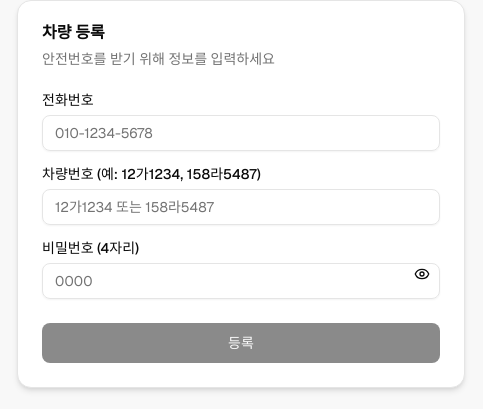
Test: RegisterForm Component - Design-TAG-006 › should show loading state during submission
Step 1. Type "01012345678" into the field labelled "전화번호" → (241, 133), box [42,115,440,151]
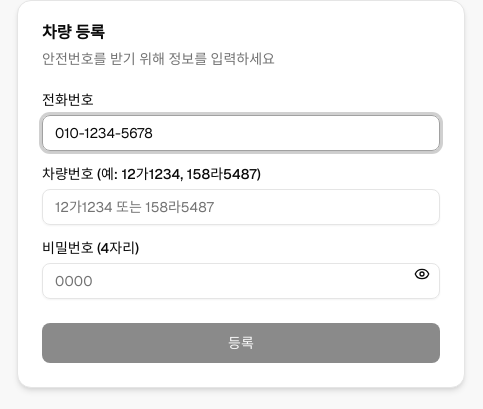
Step 2. Type "12가1234" into the field labelled "차량번호 (예: 12가1234, 158라5487)" → (241, 207), box [42,189,440,225]
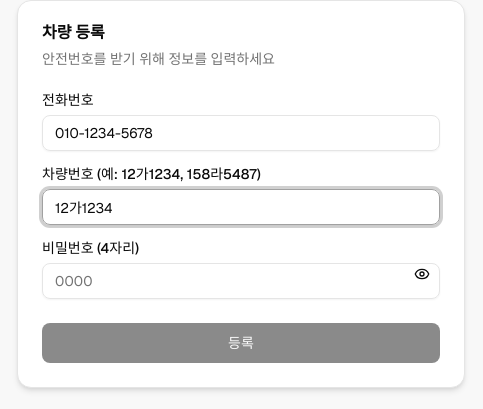
Step 3. Type "1234" into the password field labelled "비밀번호 (4자리)" → (241, 281), box [42,263,440,299]
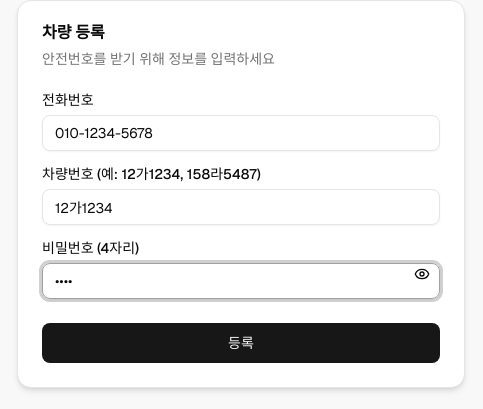
Step 4. Click the button "등록" → (241, 343), box [42,323,440,363]
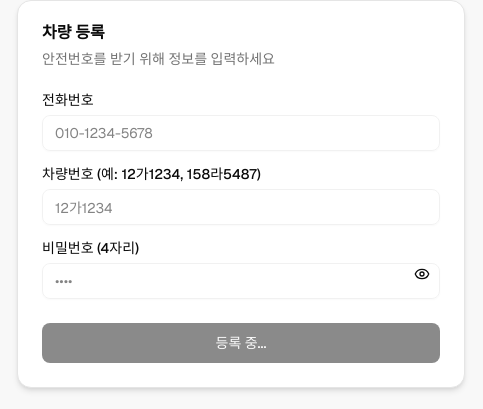
Now the button "등록 중..." is disabled, box [42,323,440,363]
